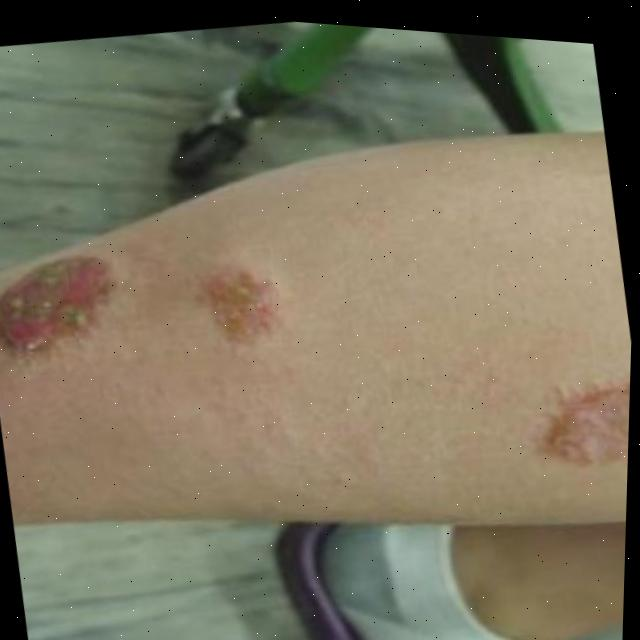Eczema: (525, 364, 630, 494), (0, 241, 114, 347), (190, 271, 280, 345)
